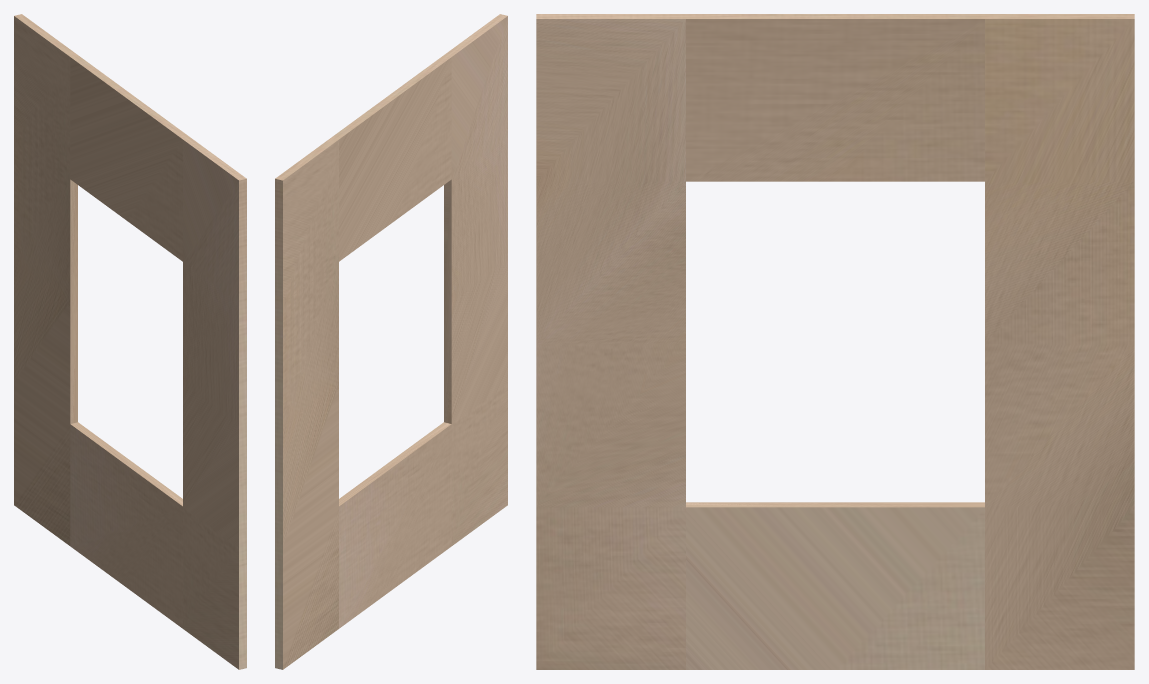
File: cupboardDoorLeft.gltf
The picture shows the model from 3 angles, left to right: view 1: azimuth 30°, elevation 25°; view 2: azimuth 150°, elevation 25°; view 3: azimuth 270°, elevation 25°; orthographic projection. The views are drawn at different scales.
Visible parts, largest first — view 1: Cube; view 2: Cube; view 3: Cube.
Part boxes in pixels (left/top/right/bottom): Cube: left=14, top=14, right=246, bottom=669; Cube: left=275, top=14, right=507, bottom=669; Cube: left=536, top=14, right=1134, bottom=669.
Size of the model in its own units: 0.0679 by 4.08 by 3.4.
Materials: 1 (1 with a texture image).
